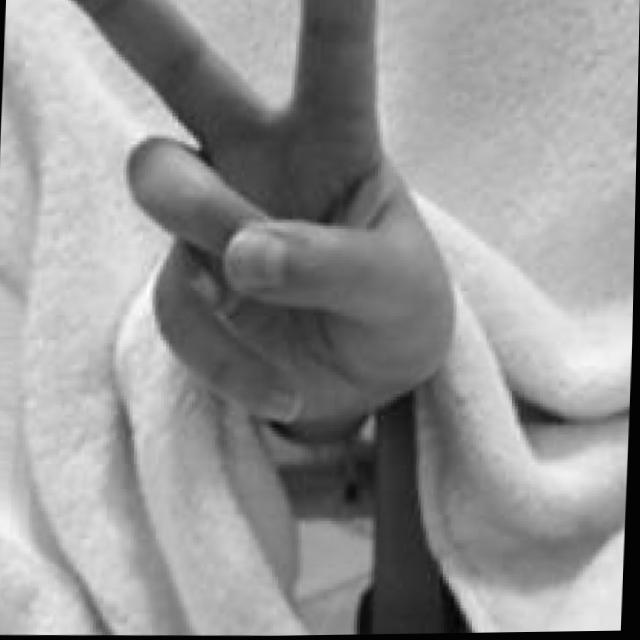V: (21, 0, 464, 446)
